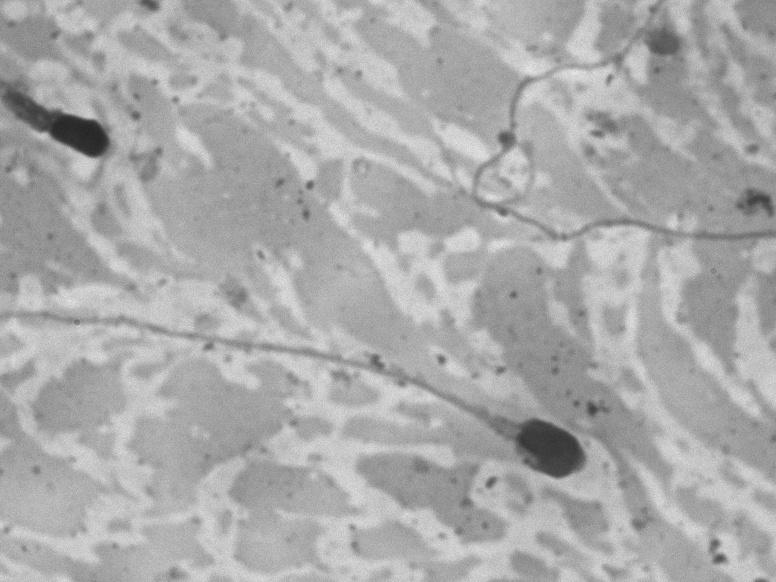Abnormal: (17, 303, 625, 501)
